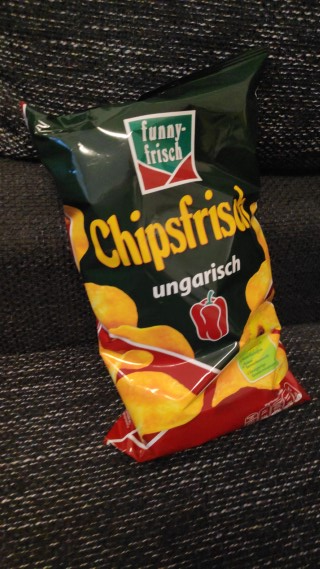chipsfrisch: (20, 44, 312, 464)
